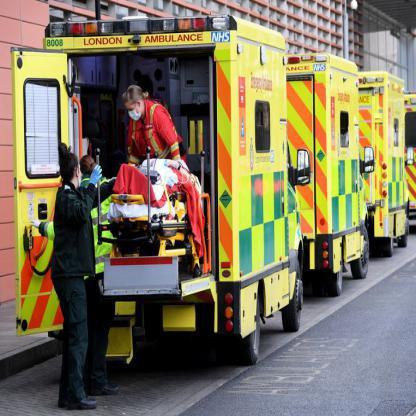Ambulance - v1 Ambulance last generate: (23, 2, 307, 347), (287, 47, 378, 276), (350, 72, 415, 251), (399, 90, 415, 219)
